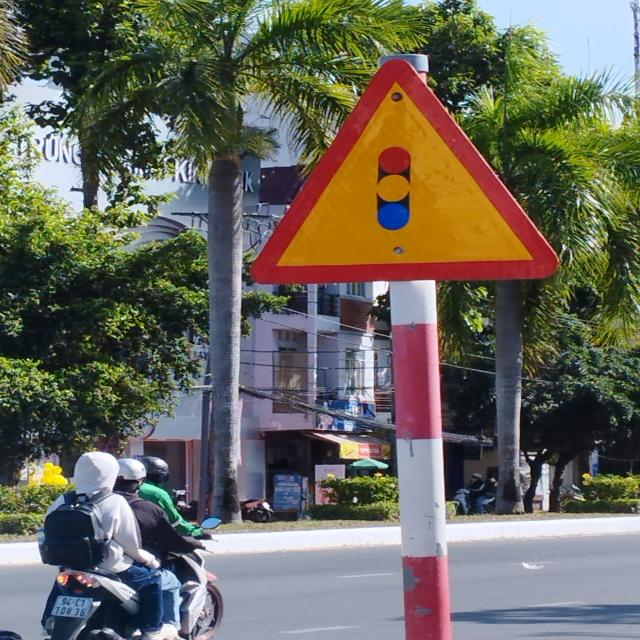Duong_Co_Go_Giam_Toc: (250, 57, 564, 284)
